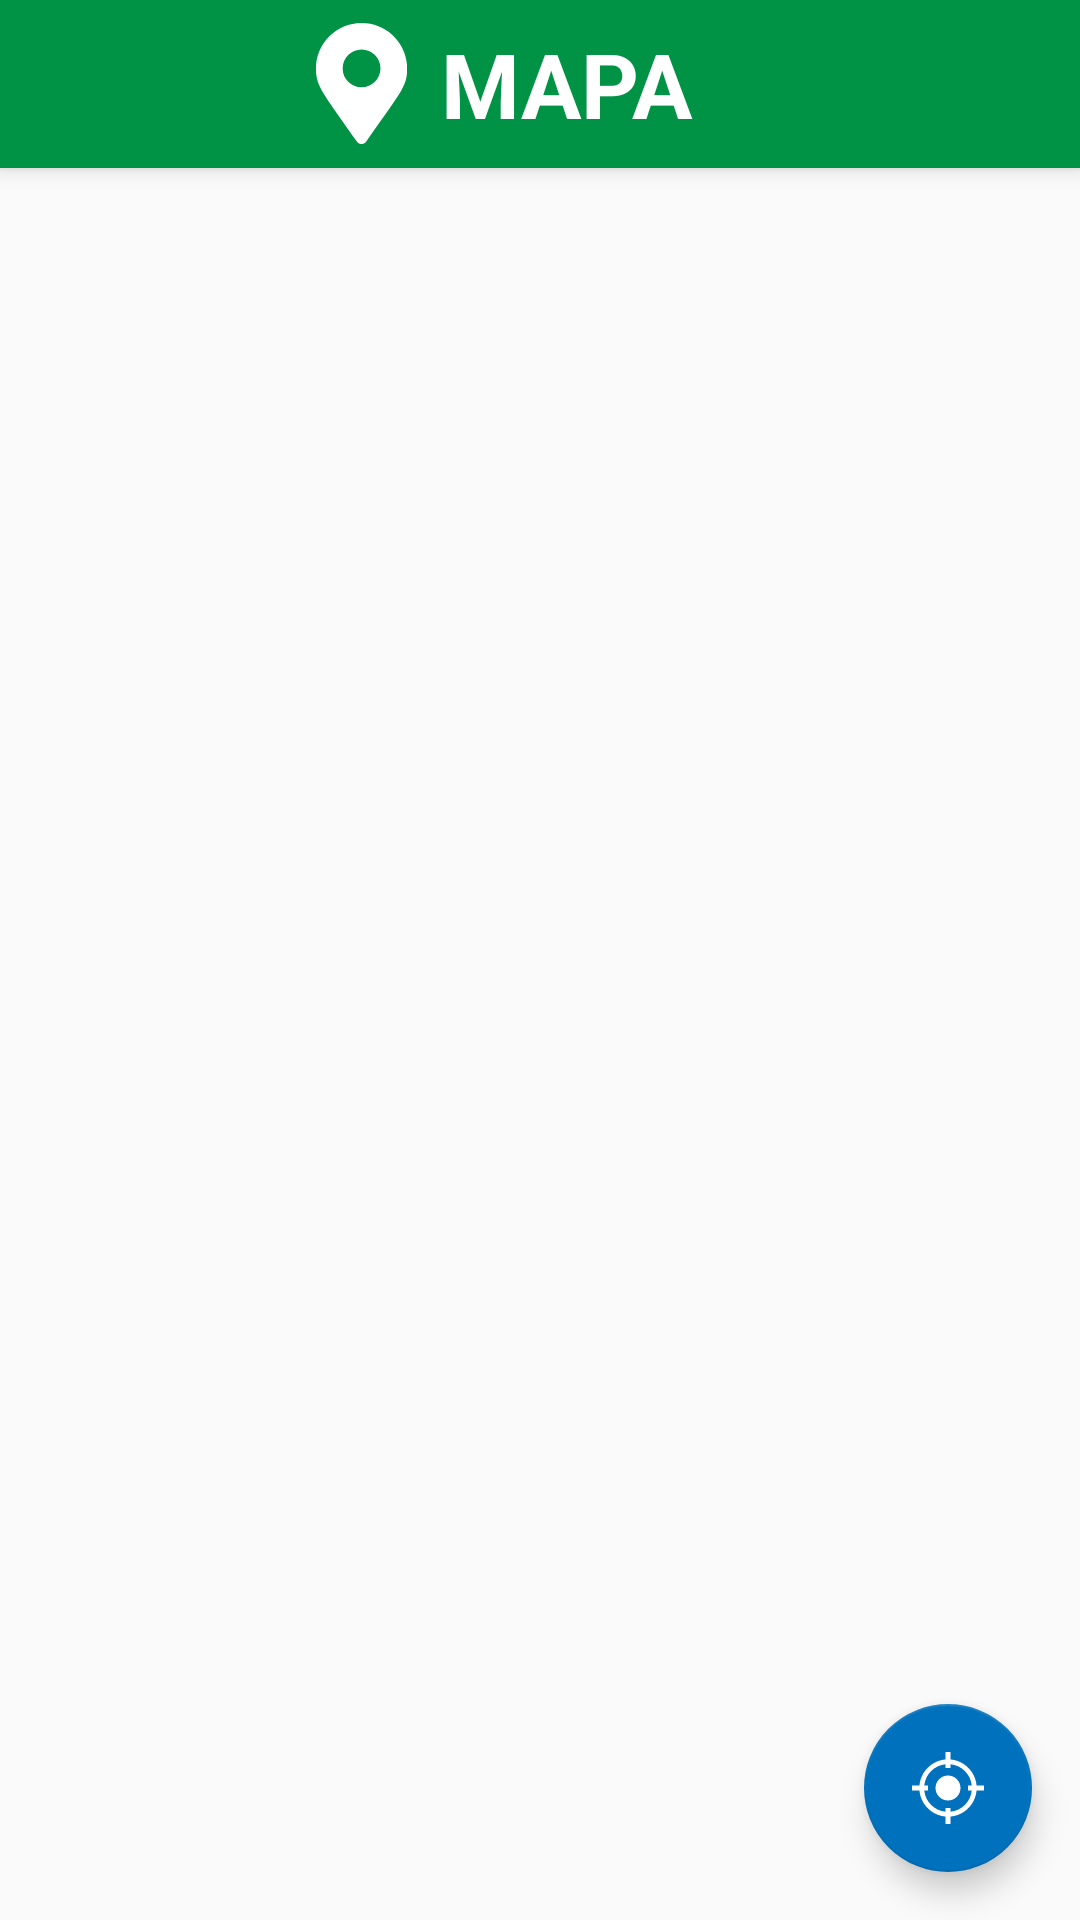

Named icons in this screenshot (1080w x 1920h) and their centers, (x,y):
nav: (948,1788)
